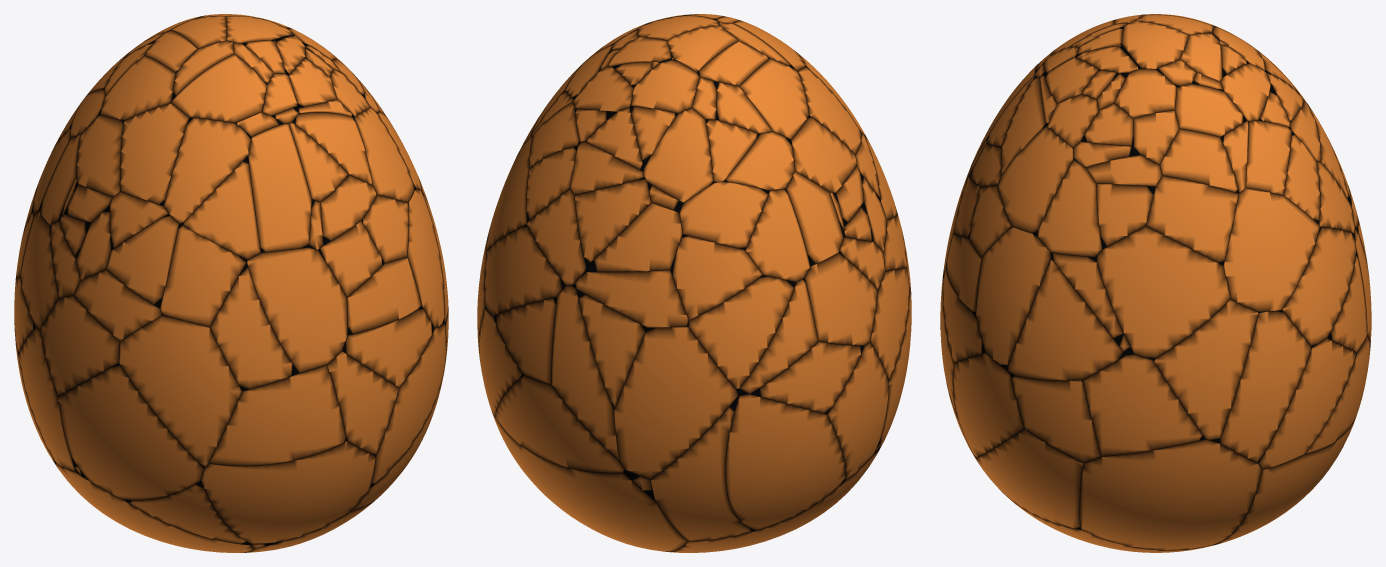
Rendered from egg-thick.glb.
The picture shows the model from 3 angles, left to right: view 1: azimuth 30°, elevation 25°; view 2: azimuth 150°, elevation 25°; view 3: azimuth 270°, elevation 25°; orthographic projection.
Visible parts, largest first — view 1: Cube_fracturepart140, Cube_fracturepart122, Cube_fracturepart50, Cube_fracturepart203, Cube_fracturepart66, Cube_fracturepart86, Cube_fracturepart12, Cube_fracturepart40, Cube_fracturepart151, Cube_fracturepart162, Cube_fracturepart73, Cube_fracturepart32 (+45 smaller); view 2: Cube_fracturepart110, Cube_fracturepart201, Cube_fracturepart185, Cube_fracturepart11, Cube_fracturepart1, Cube_fracturepart45, Cube_fracturepart8, Cube_fracturepart191, Cube_fracturepart131, Cube_fracturepart125, Cube_fracturepart23, Cube_fracturepart205 (+47 smaller); view 3: Cube_fracturepart173, Cube_fracturepart127, Cube_fracturepart104, Cube_fracturepart192, Cube_fracturepart97, Cube_fracturepart99, Cube_fracturepart84, Cube_fracturepart78, Cube_fracturepart183, Cube_fracturepart79, Cube_fracturepart146, Cube_fracturepart32 (+47 smaller).
Boxes of the visible parts, bbox=[...] form: Cube_fracturepart140: bbox=[58, 363, 204, 500]; Cube_fracturepart122: bbox=[201, 441, 375, 544]; Cube_fracturepart50: bbox=[119, 315, 242, 467]; Cube_fracturepart203: bbox=[209, 365, 346, 465]; Cube_fracturepart66: bbox=[247, 247, 347, 373]; Cube_fracturepart86: bbox=[248, 123, 311, 252]; Cube_fracturepart12: bbox=[210, 262, 299, 391]; Cube_fracturepart40: bbox=[160, 224, 247, 327]; Cube_fracturepart151: bbox=[164, 117, 251, 224]; Cube_fracturepart162: bbox=[40, 295, 119, 396]; Cube_fracturepart73: bbox=[120, 103, 189, 205]; Cube_fracturepart32: bbox=[370, 323, 446, 487]; Cube_fracturepart110: bbox=[725, 394, 845, 530]; Cube_fracturepart201: bbox=[614, 327, 738, 479]; Cube_fracturepart185: bbox=[491, 411, 688, 551]; Cube_fracturepart11: bbox=[651, 395, 755, 541]; Cube_fracturepart1: bbox=[495, 375, 624, 472]; Cube_fracturepart45: bbox=[688, 275, 796, 390]; Cube_fracturepart8: bbox=[551, 285, 618, 460]; Cube_fracturepart191: bbox=[804, 253, 877, 345]; Cube_fracturepart131: bbox=[827, 342, 888, 479]; Cube_fracturepart125: bbox=[672, 234, 762, 320]; Cube_fracturepart23: bbox=[484, 225, 565, 316]; Cube_fracturepart205: bbox=[573, 270, 688, 327]; Cube_fracturepart173: bbox=[1079, 439, 1261, 550]; Cube_fracturepart127: bbox=[1095, 226, 1230, 359]; Cube_fracturepart104: bbox=[1223, 188, 1319, 312]; Cube_fracturepart192: bbox=[1082, 354, 1205, 456]; Cube_fracturepart97: bbox=[1006, 259, 1125, 380]; Cube_fracturepart99: bbox=[1153, 299, 1258, 442]; Cube_fracturepart84: bbox=[1218, 310, 1312, 463]; Cube_fracturepart78: bbox=[975, 227, 1050, 368]; Cube_fracturepart183: bbox=[976, 429, 1083, 529]; Cube_fracturepart79: bbox=[1258, 338, 1356, 469]; Cube_fracturepart146: bbox=[1146, 175, 1238, 265]; Cube_fracturepart32: bbox=[953, 352, 1024, 457].
Bounding box in the file's own units: 0.7049 × 0.9147 × 0.7078.
